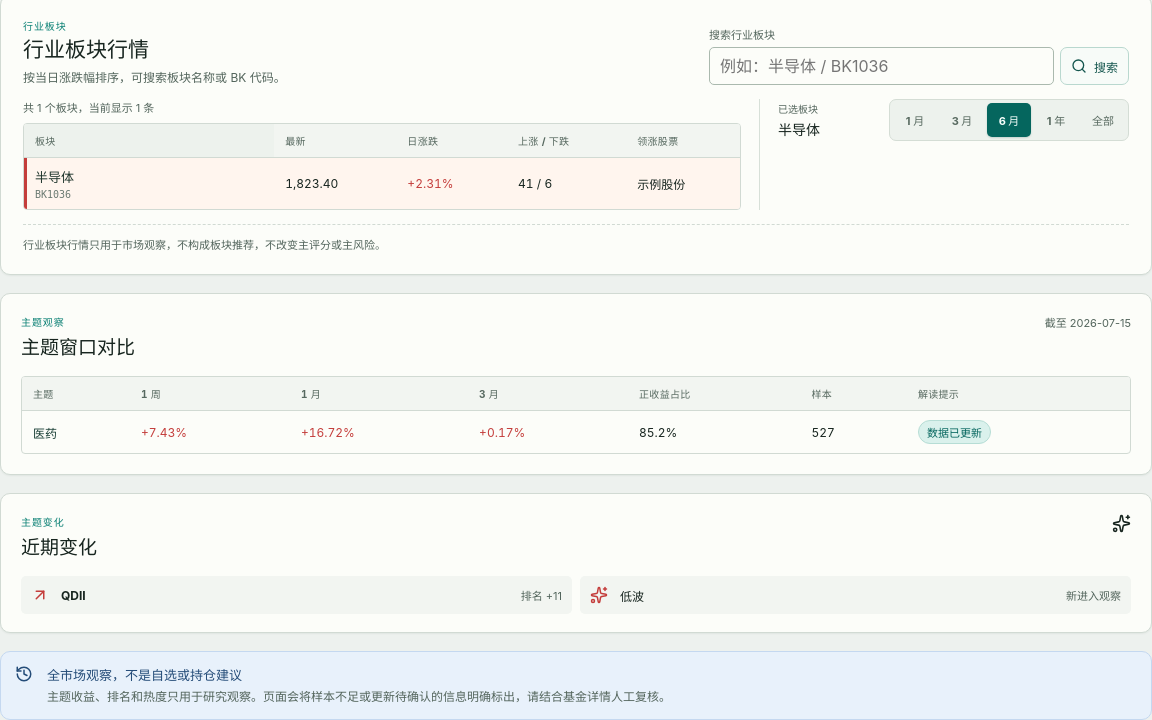
Test case: MarketPage › shows a product-facing market surface without engineering diagnostics
This screenshot has width=1152, height=720.
(page scrolled)
Expected: the text "QDII" is shown, [61,588,86,603]
Expected: the text "低波" is shown, [620,589,644,604]
Click the button with aria-label "搜索医药同名行业板块" at (45, 432), box [33,424,57,441]
(page scrolled)
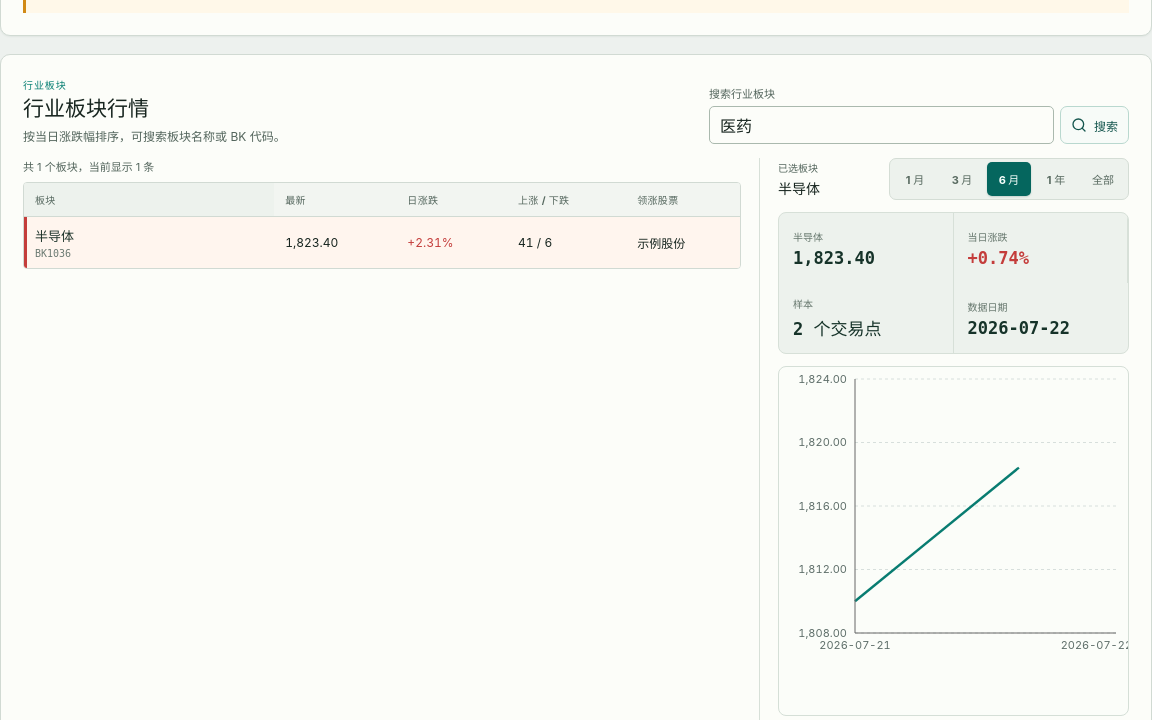
Now the search field labelled "搜索行业板块" holds "医药", box [709,106,1054,144]
